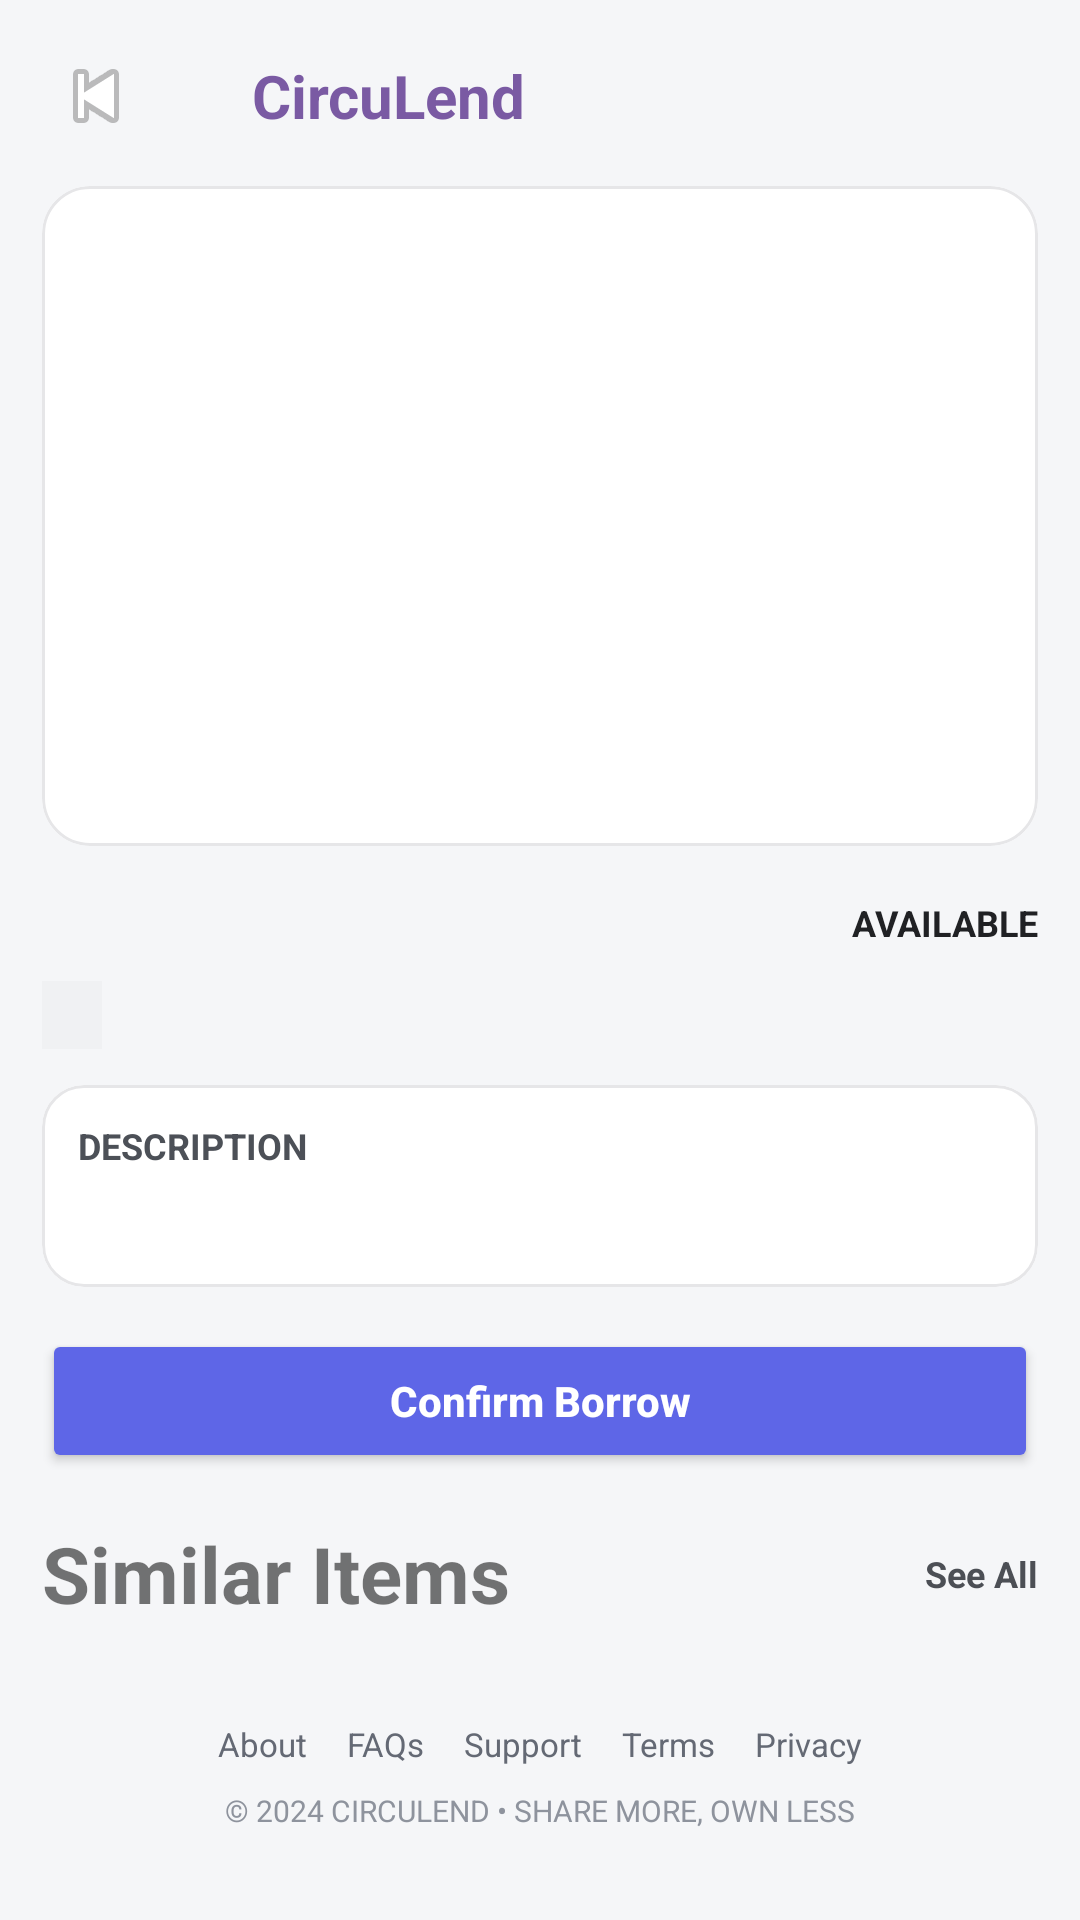

Named icons in this screenshot (1080px x 1920px) and their centers, [x,y]:
Back: [96,96]
